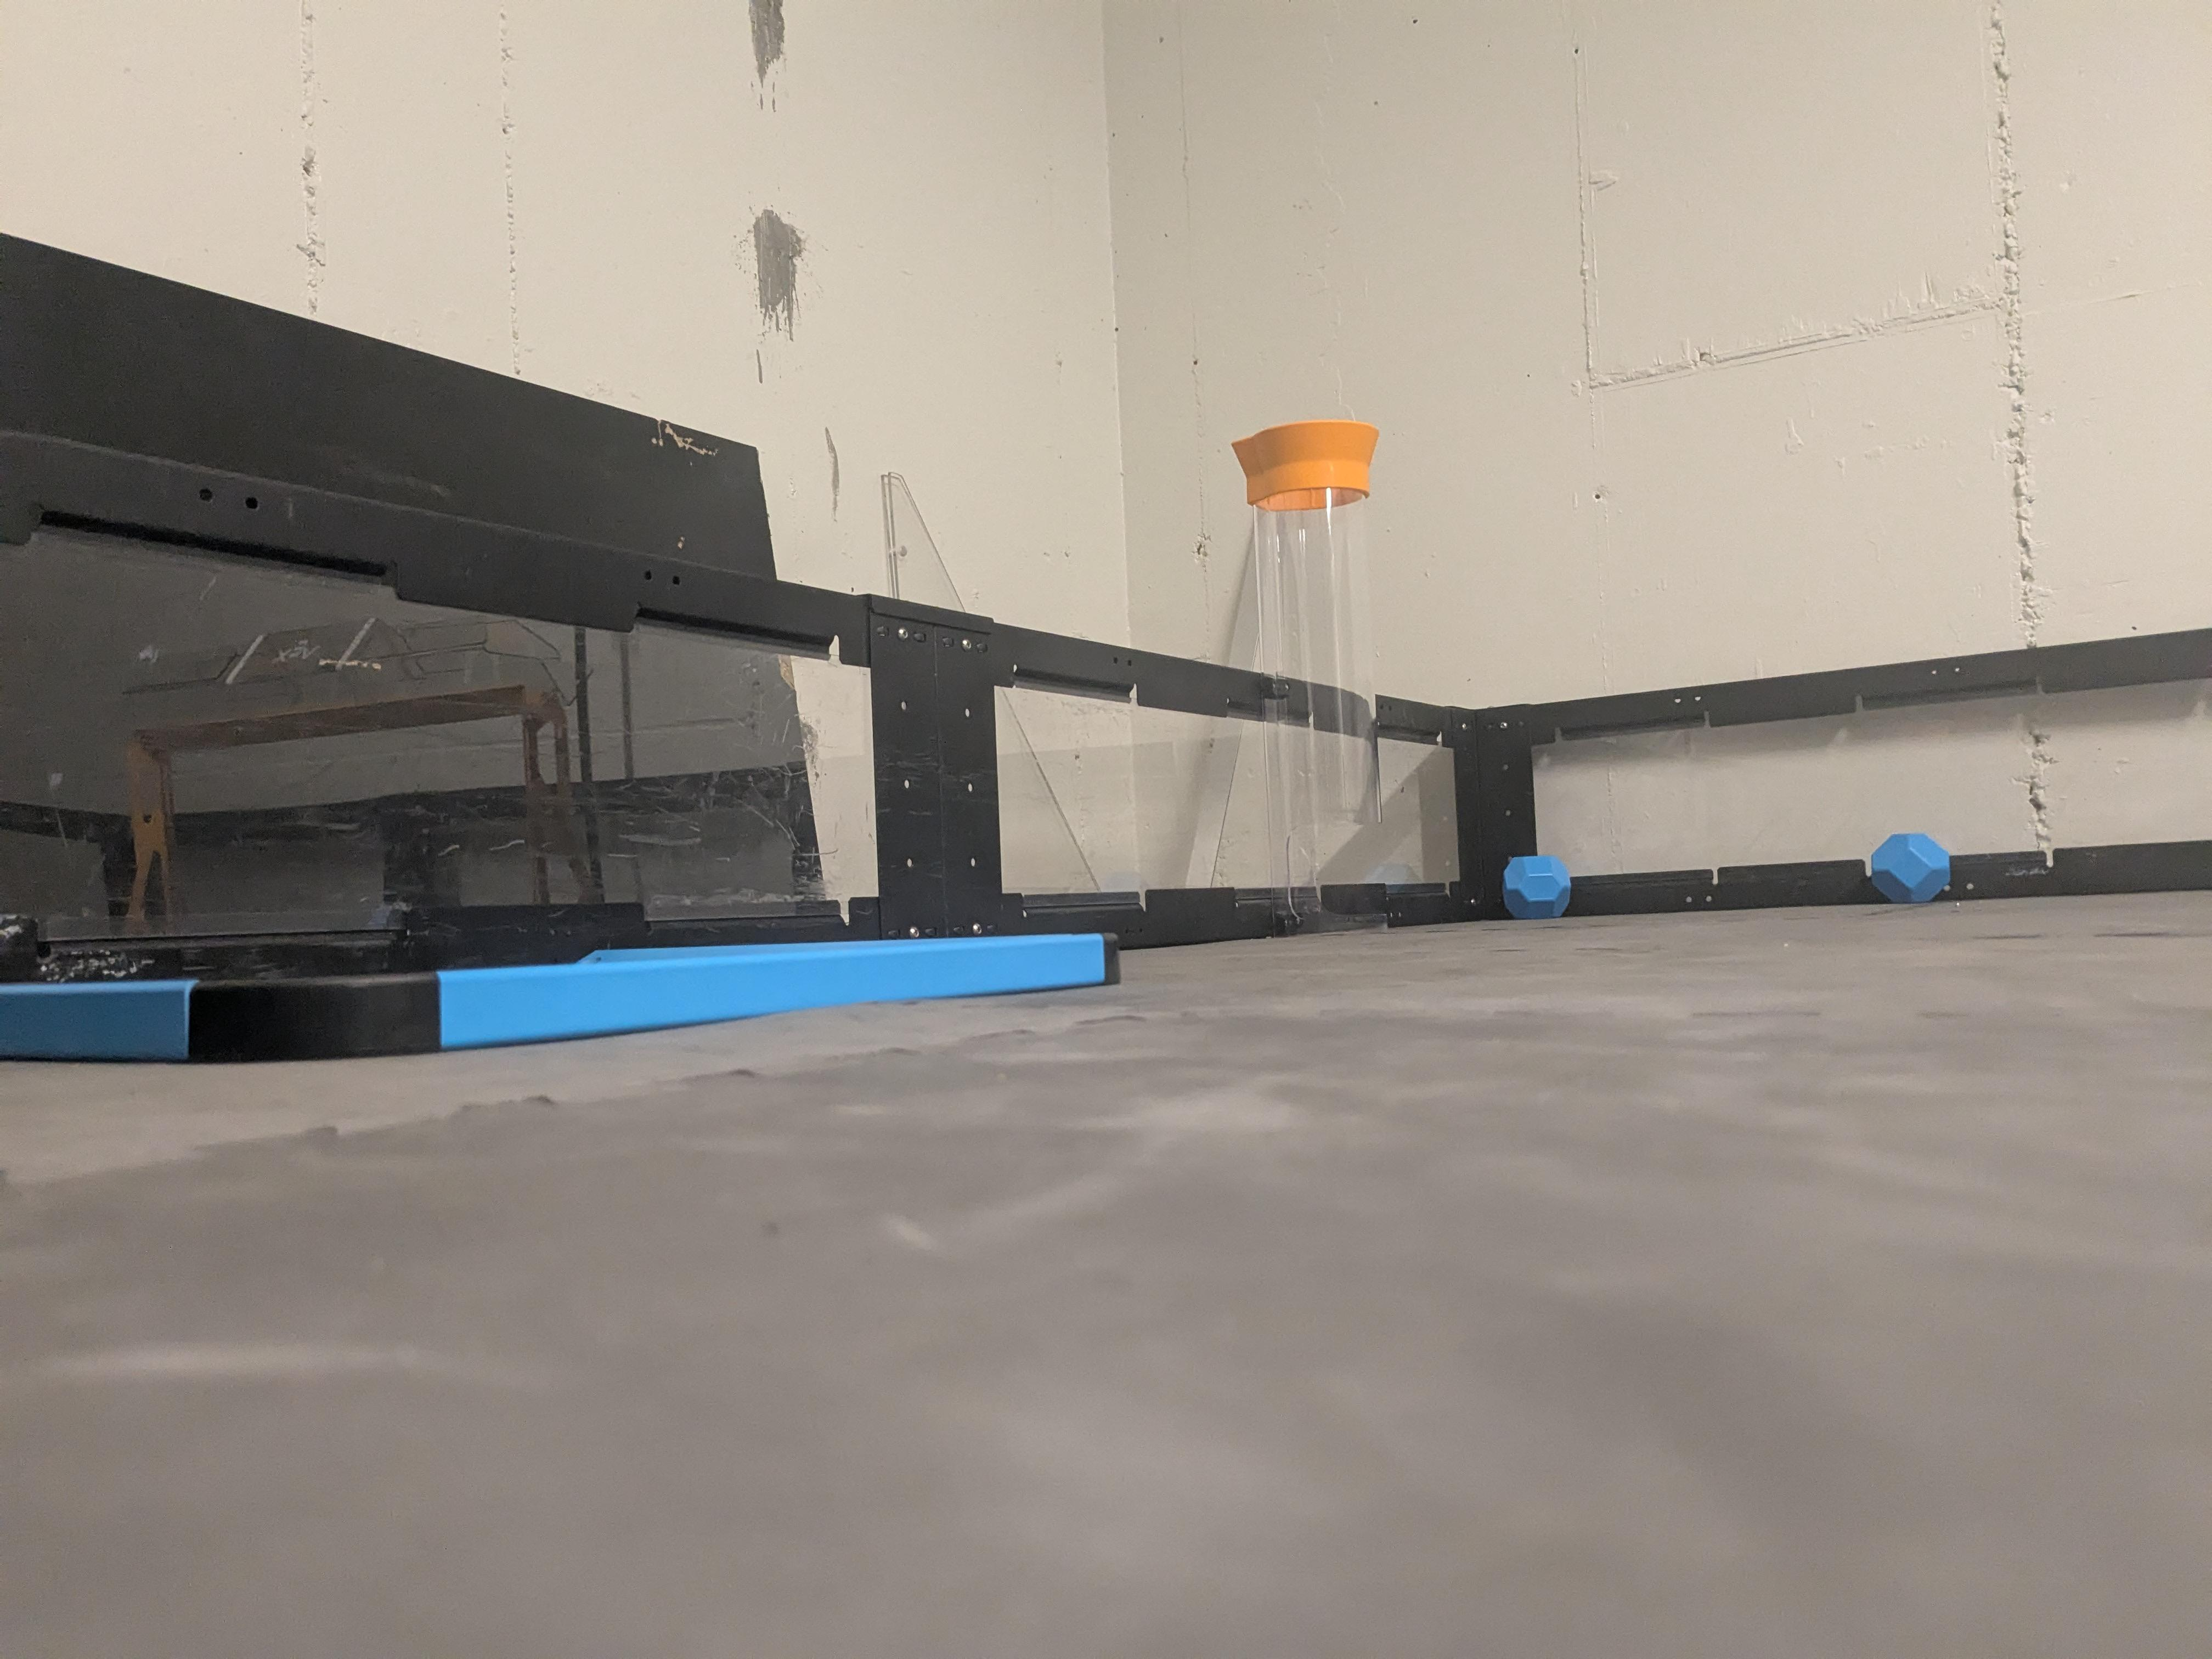Vex-Pieces-BLUE: (3, 981, 197, 1058), (1869, 835, 1946, 901), (1496, 857, 1571, 920)
